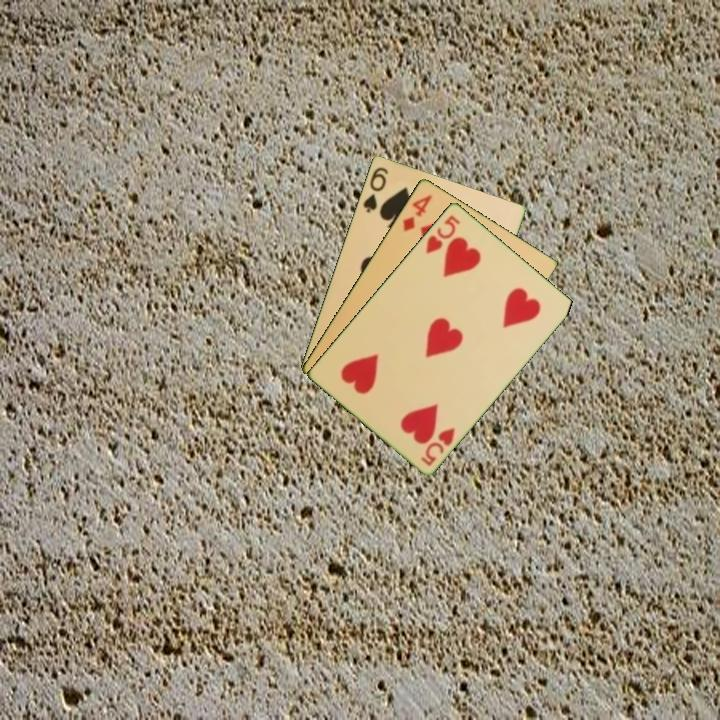4d: (399, 191, 435, 234)
5h: (422, 211, 463, 256), (417, 424, 458, 468)
6s: (359, 163, 391, 215)
